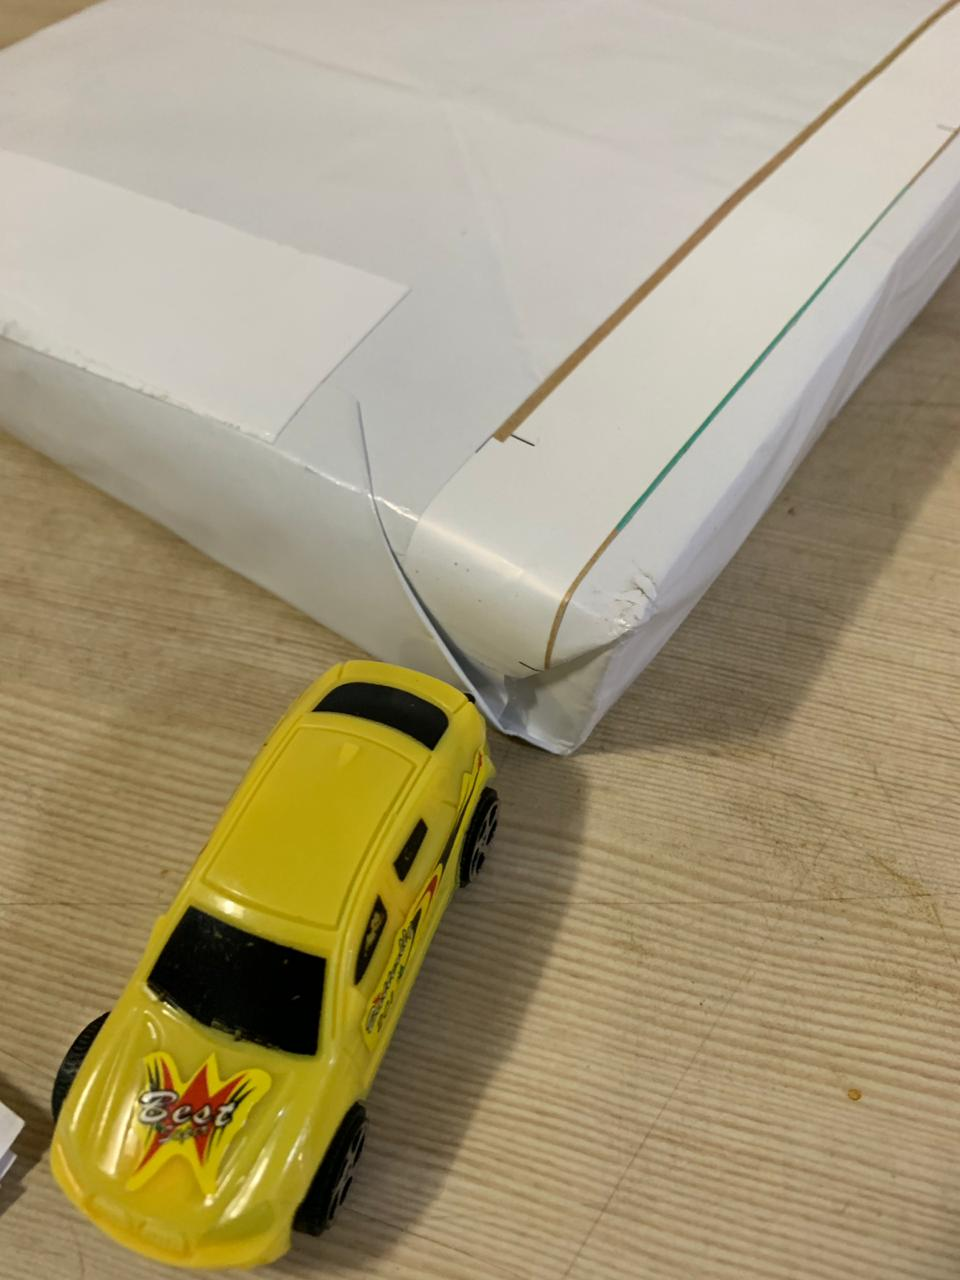car: (37, 625, 517, 1278)
